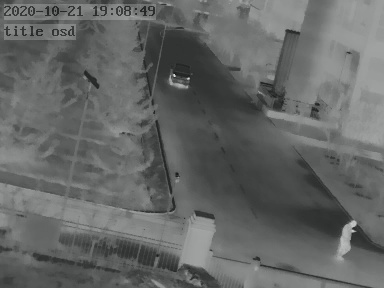person: (336, 217, 356, 260)
vehicle: (168, 63, 190, 88)
